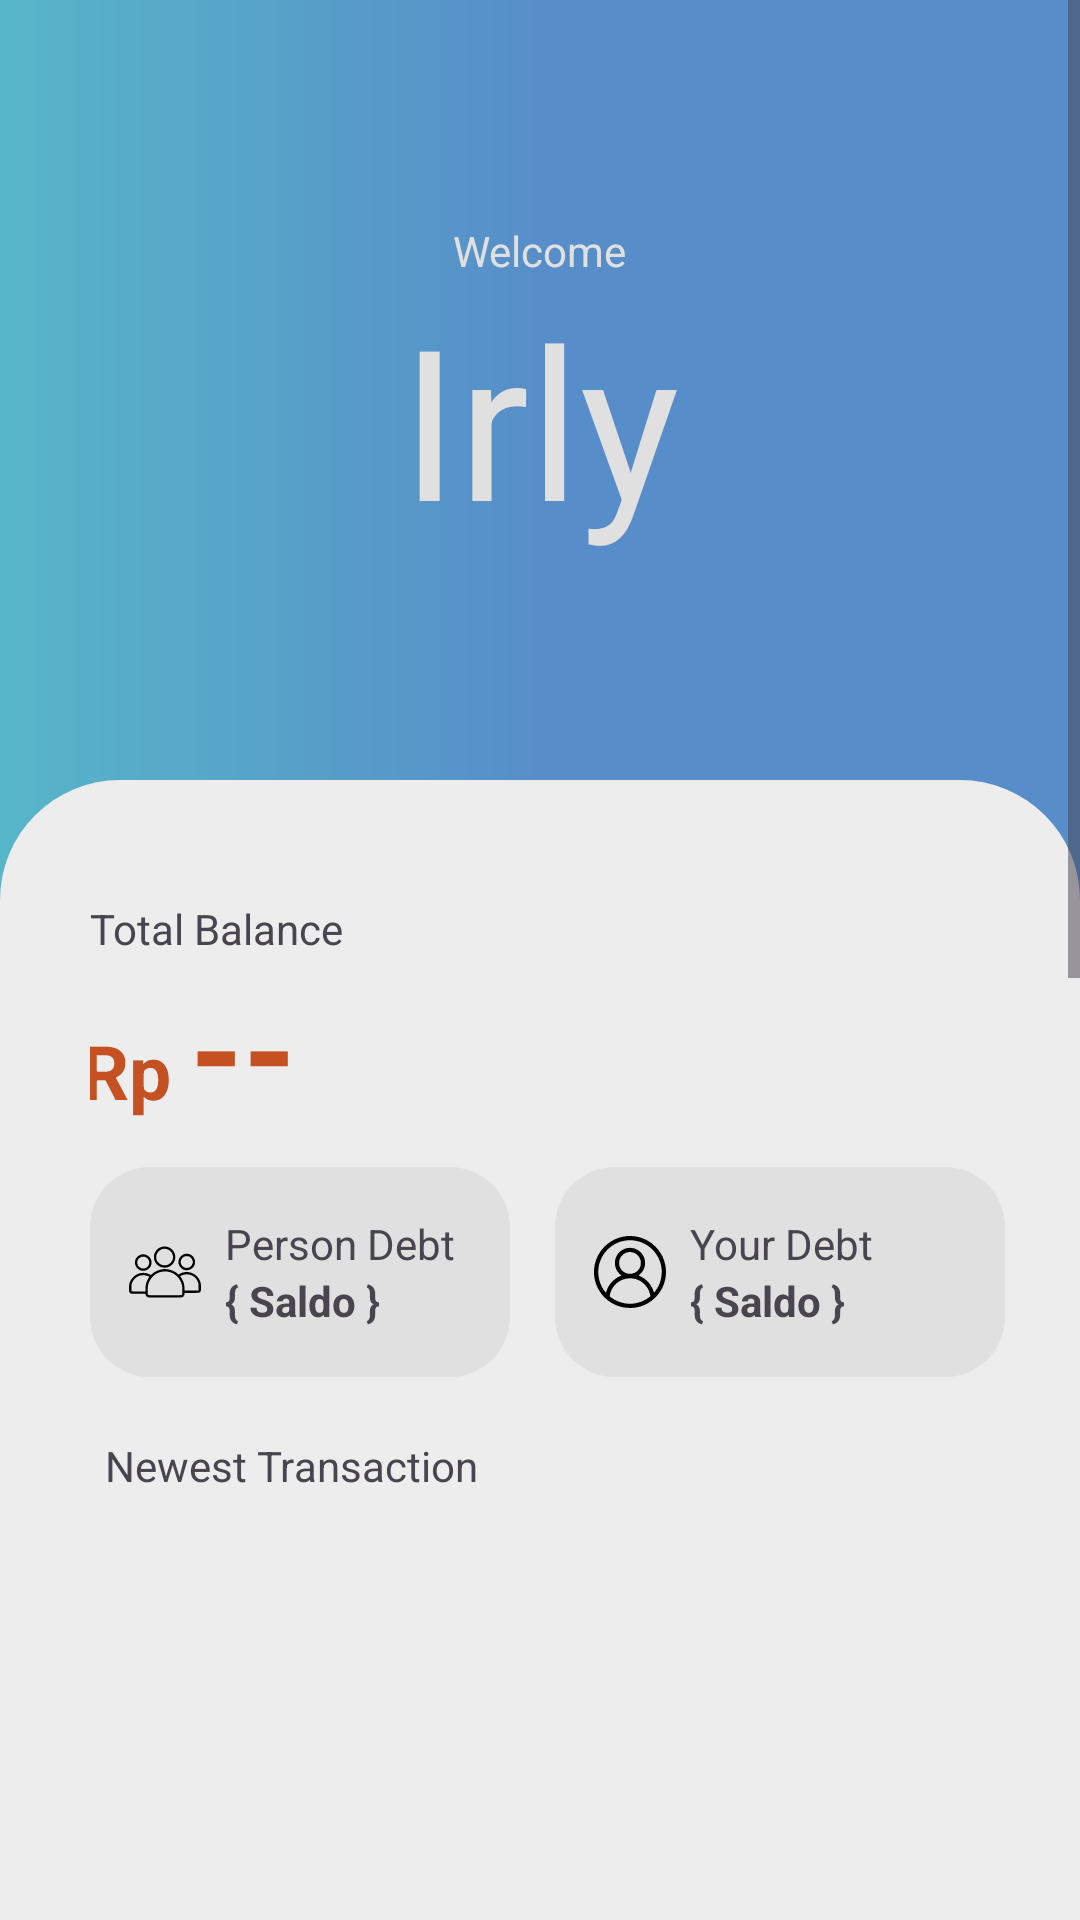

Screen size 1080*1920. Icon name, then its center in pixels as (x=x, y=y):
profile: (x=630, y=1272)
